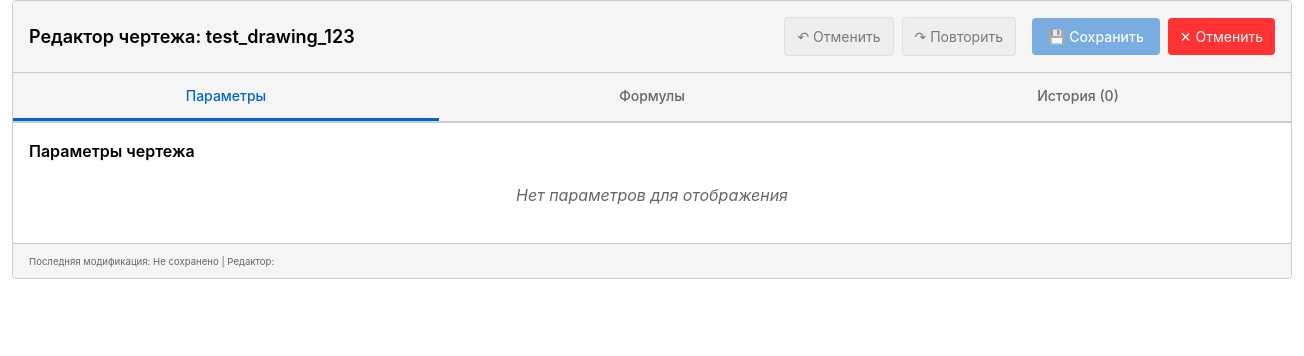
Scenario: DrawingEditor Component › Должен переключаться между вкладками
Step 1. Click the tab "Формулы" → [652, 97], box [439,73,865,121]
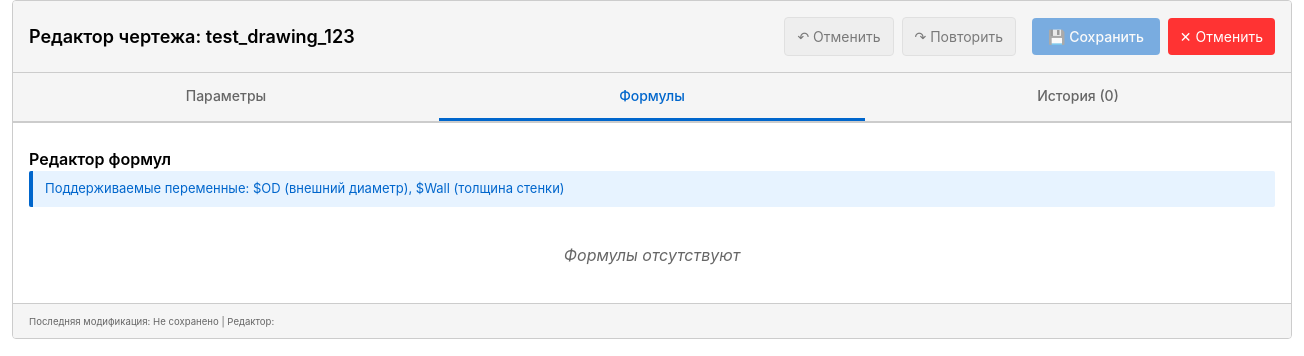
Now the text "Поддерживаемые переменные" is shown, box [45,180,565,196]
Step 2. Click the tab "История (0)" → [1078, 97], box [865,73,1291,121]
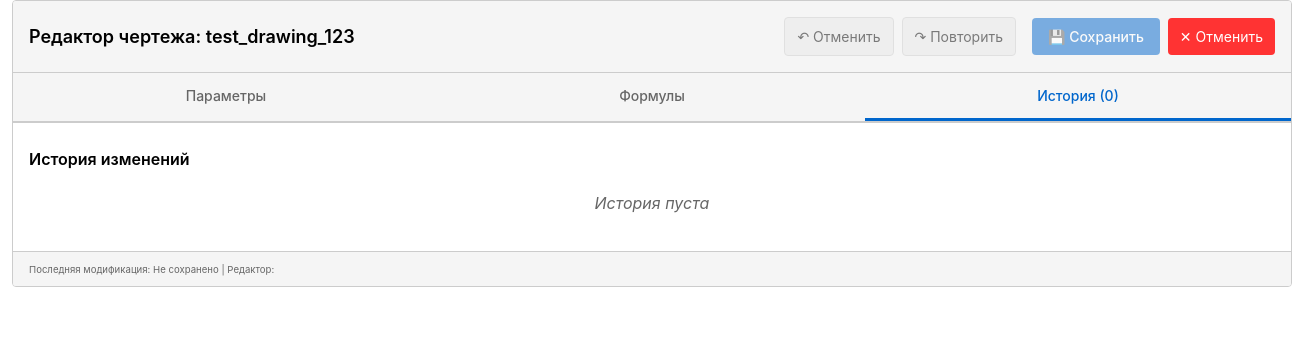
Now the heading "История изменений" is shown, box [29,149,190,169]
